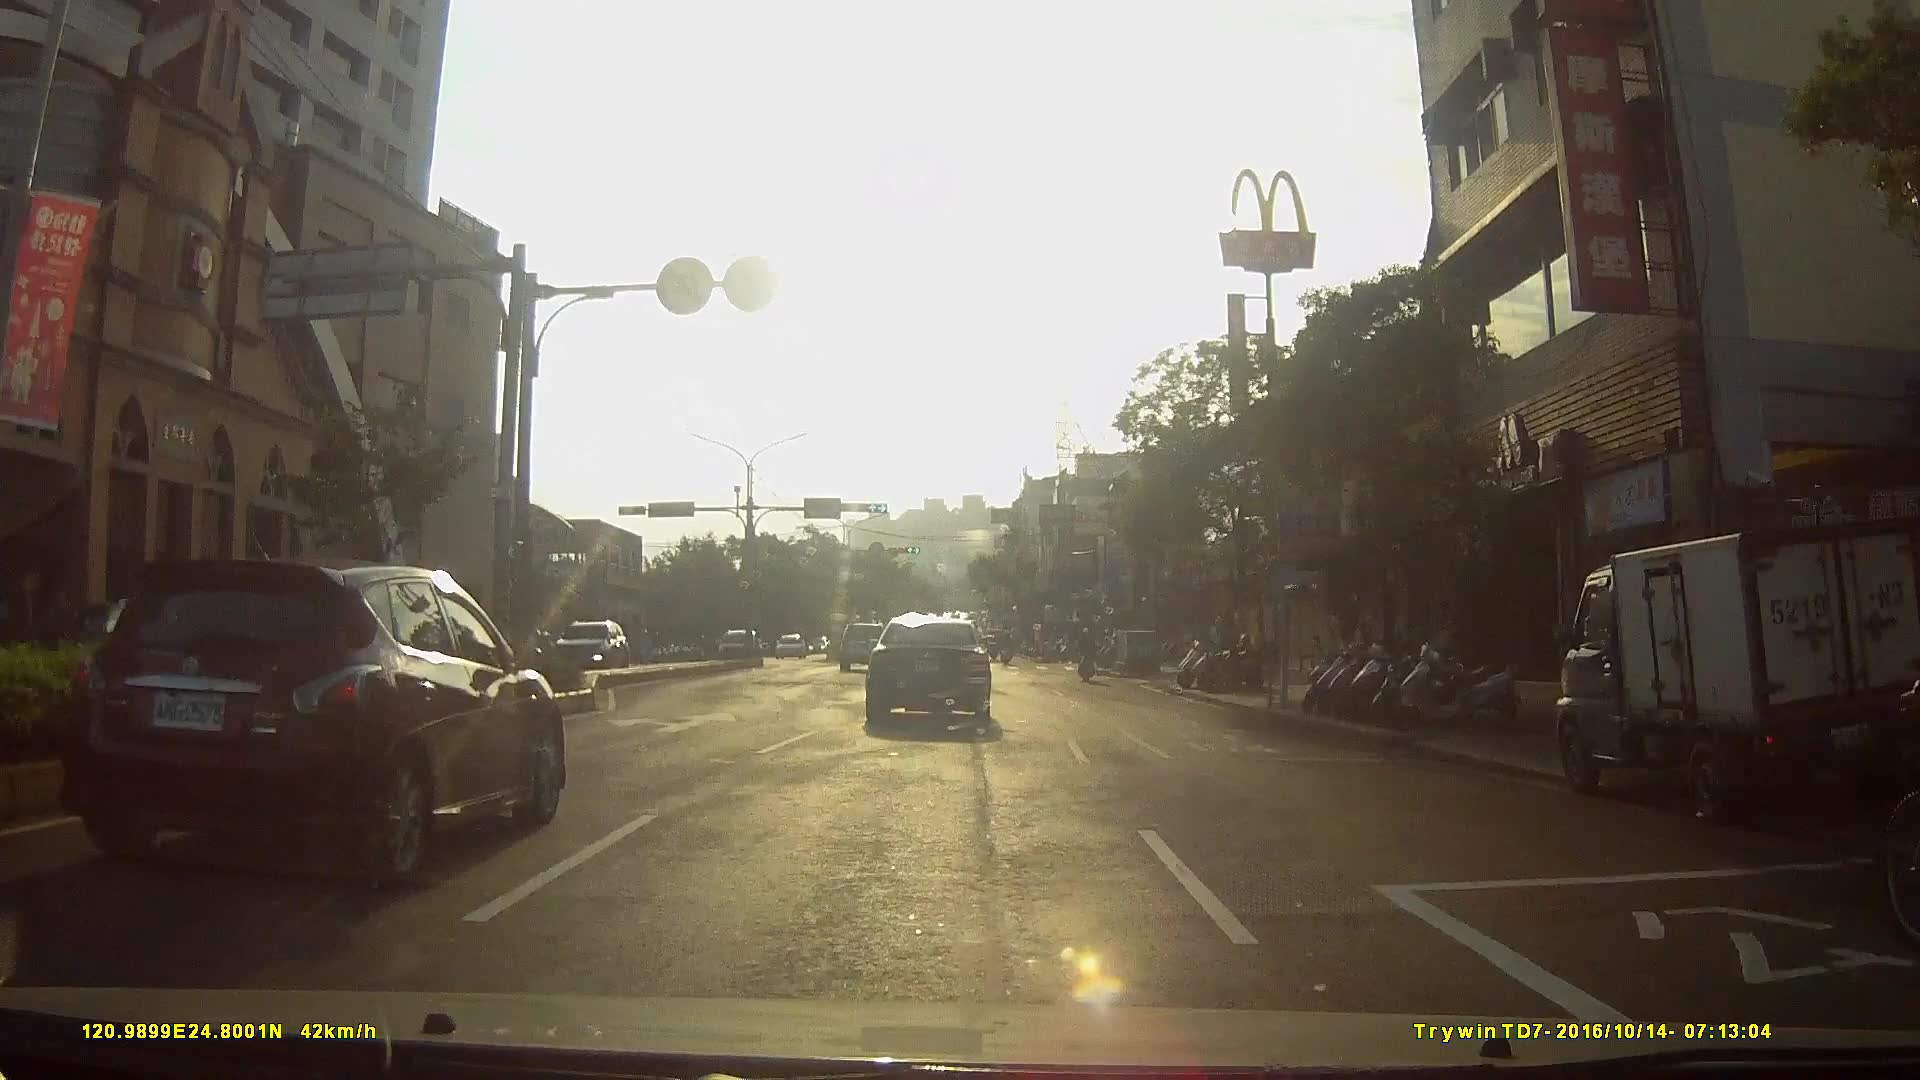rider: (1075, 623, 1100, 684)
vehicle: (49, 549, 576, 885), (1545, 518, 1892, 823), (858, 611, 1000, 737), (540, 616, 633, 677), (834, 619, 892, 674), (707, 626, 766, 665), (768, 632, 813, 662)
